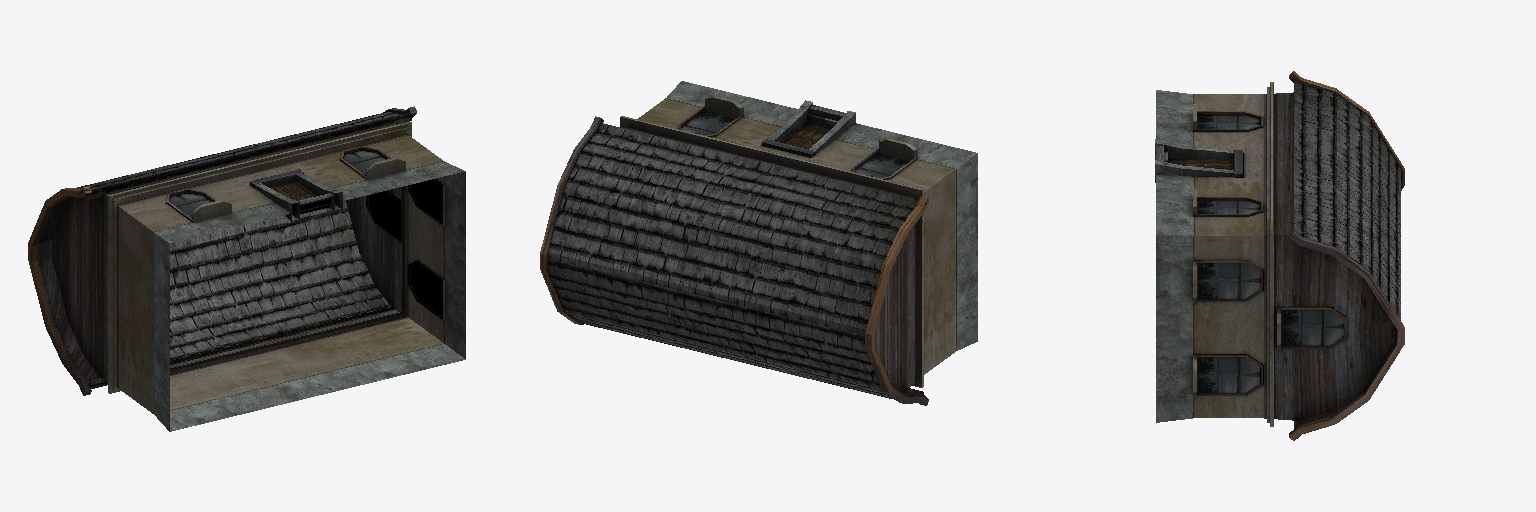
3 views of the same model, side by side, from view 1: azimuth 30°, elevation 25°; view 2: azimuth 150°, elevation 25°; view 3: azimuth 270°, elevation 25° (orthographic).
Parts seen in each view (by area): view 1: Cube; view 2: Cube; view 3: Cube.
Part boxes in pixels (x1,y1,x2,y2): Cube: (28, 106, 465, 431); Cube: (540, 81, 977, 405); Cube: (1155, 71, 1404, 440).
Bounding box in the file's own units: 2.28 × 1.38 × 1.49.
1 materials, 1 textured.